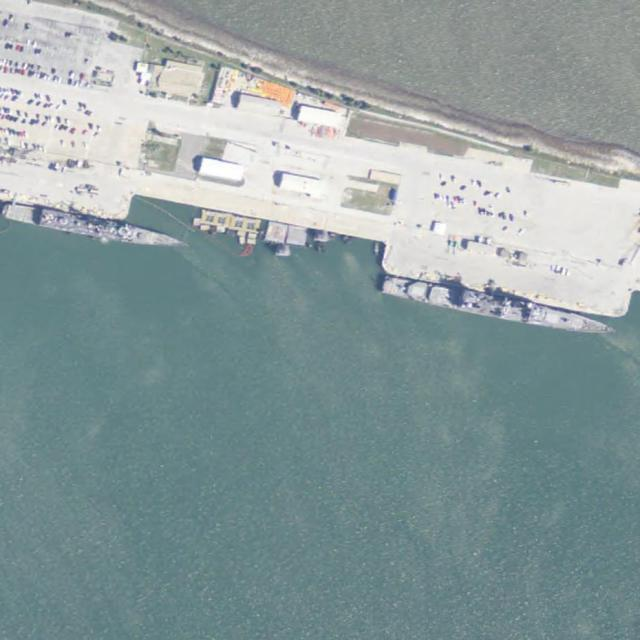Cruiser: (382, 276, 616, 339)
Frigate: (2, 203, 185, 250)
